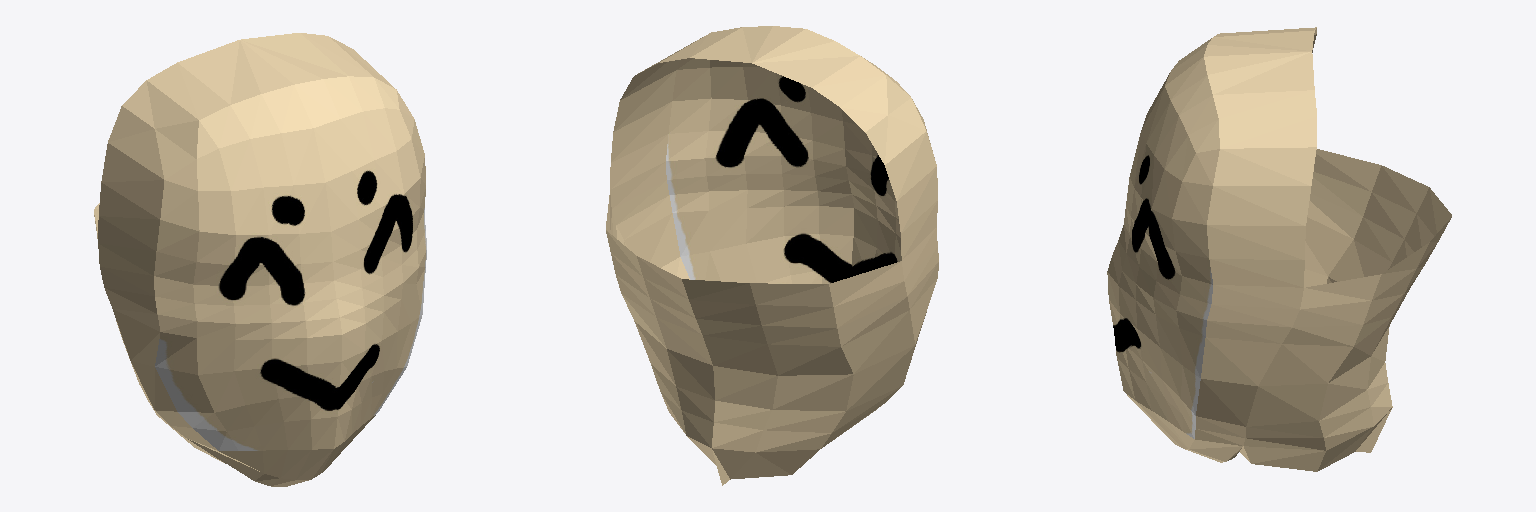
The picture shows the model from 3 angles: view 1: azimuth 30°, elevation 25°; view 2: azimuth 150°, elevation 25°; view 3: azimuth 270°, elevation 25°; orthographic projection.
Visible parts, largest first — view 1: head; view 2: head; view 3: head.
Boxes of the visible parts, x1=… form: head: x1=94, y1=33, x2=426, y2=486; head: x1=606, y1=26, x2=938, y2=485; head: x1=1107, y1=27, x2=1451, y2=471.
Size of the model in its own units: 1.59 by 2.12 by 1.62.
1 materials, 1 textured.